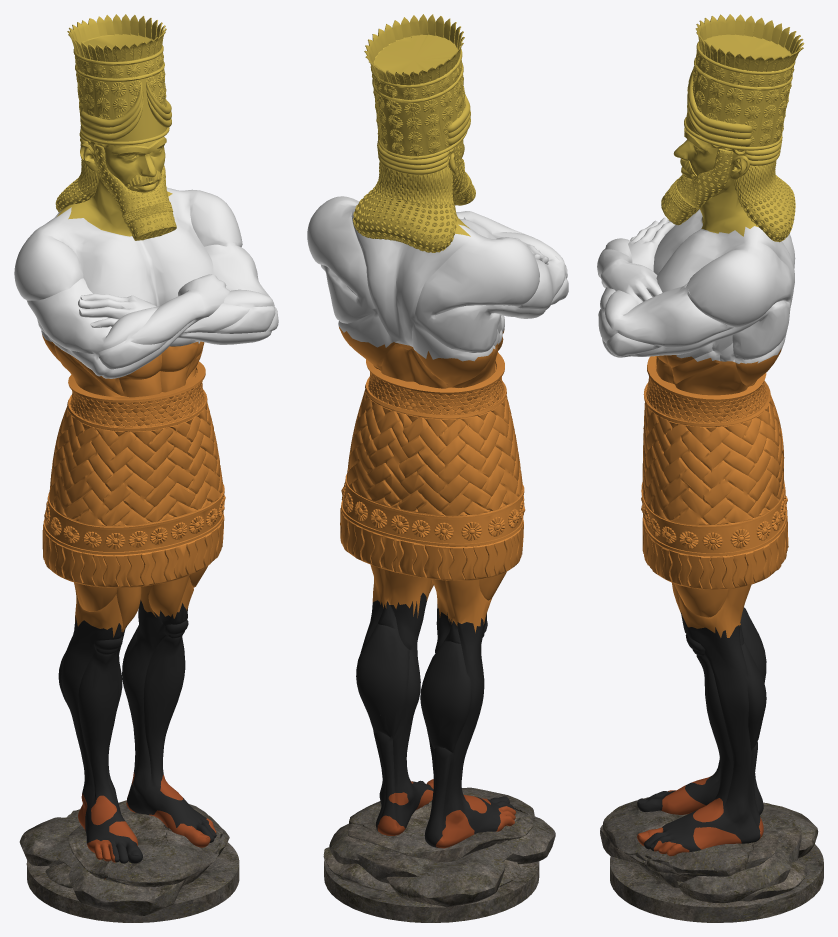
3 views of the same model, side by side, from view 1: azimuth 30°, elevation 25°; view 2: azimuth 150°, elevation 25°; view 3: azimuth 270°, elevation 25° (orthographic).
Parts seen in each view (by area): view 1: rey nabufx2; view 2: rey nabufx2; view 3: rey nabufx2.
Boxes of the visible parts, x1,y1,x2,y2 form: rey nabufx2: (14, 14, 278, 922); rey nabufx2: (307, 14, 568, 922); rey nabufx2: (597, 14, 823, 922).
Size of the model in its own units: 0.8003 by 2.99 by 0.7236.
Materials: 6 (1 with a texture image).
